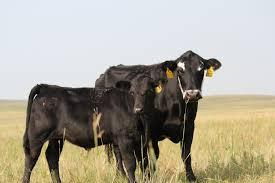cow: (94, 50, 222, 183), (22, 75, 168, 183)
